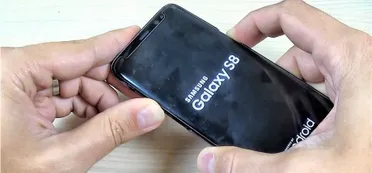Phone: (109, 3, 334, 154)
